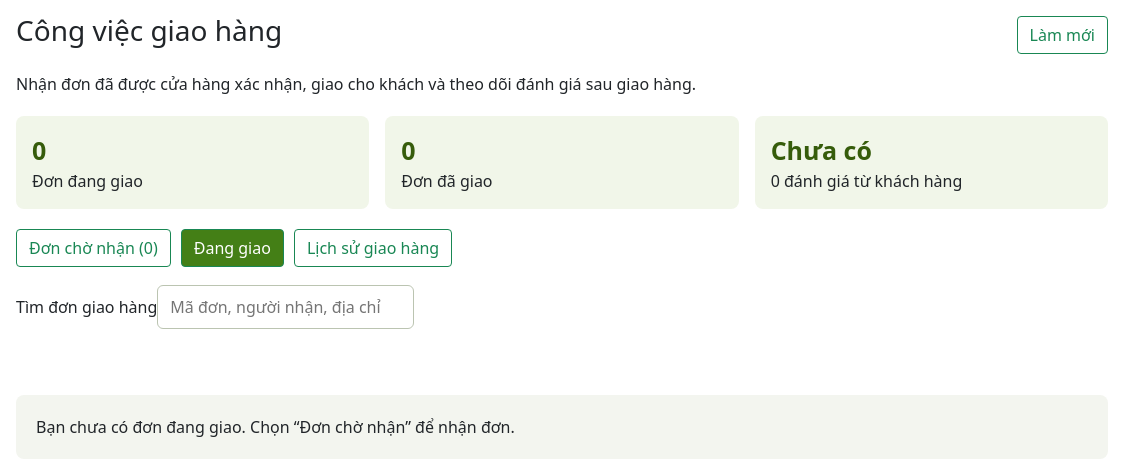
Test: an empty account has no delivery action and offers available orders only after backend confirmation
Expected: the text "Bạn chưa có đơn đang giao. Chọn “Đơn chờ nhận” để nhận đơn." is shown, [16, 395, 1108, 459]
Click the tab "Đơn chờ nhận (0)" at (93, 248), box [16, 229, 171, 267]
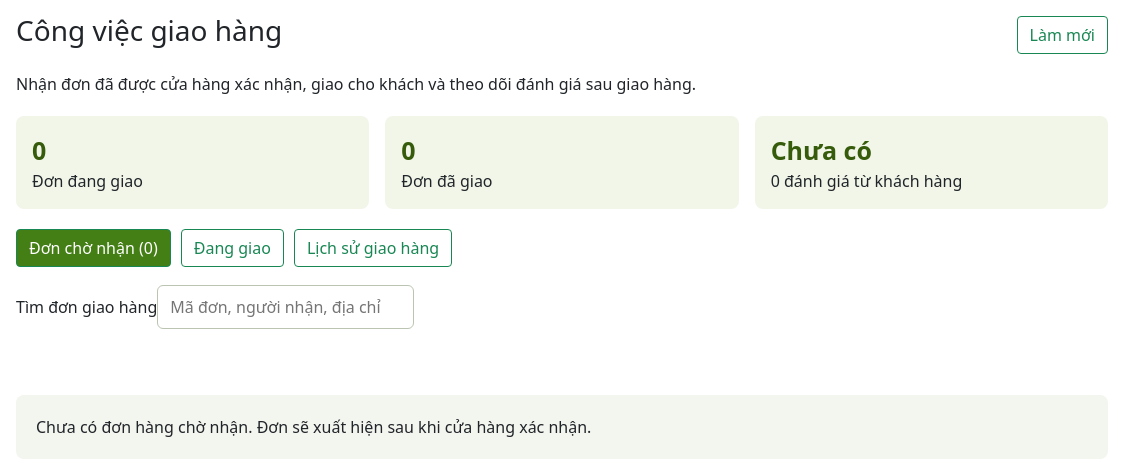
Now the text "Chưa có đơn hàng chờ nhận" is shown, box [36, 416, 591, 438]
